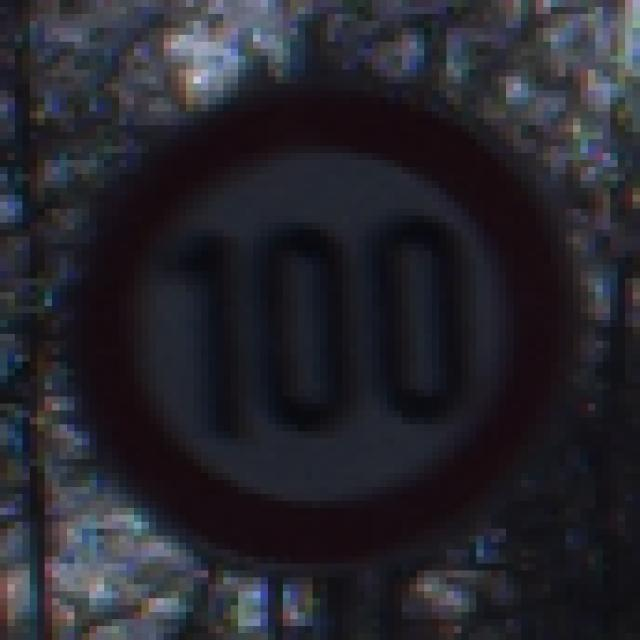speed limit 100: (51, 74, 594, 576)
